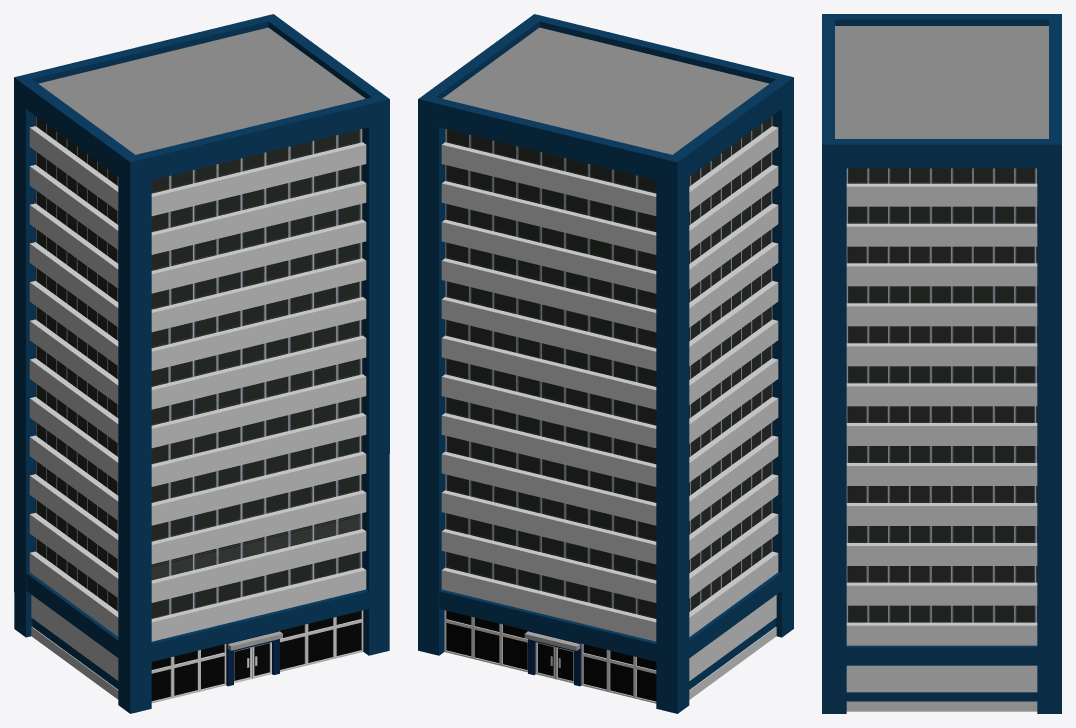
3 renders of one model, left to right at view 1: azimuth 30°, elevation 25°; view 2: azimuth 150°, elevation 25°; view 3: azimuth 270°, elevation 25°, orthographic. The views are drawn at different scales.
Parts seen in each view (by area): view 1: BC-02; view 2: BC-02; view 3: BC-02.
Boxes of the visible parts, x1,y1,x2,y2 form: BC-02: (14, 14, 389, 713); BC-02: (418, 14, 793, 713); BC-02: (822, 14, 1061, 713).
Size of what is drawn, in the model's own units: 21.06 by 42.79 by 16.35.
